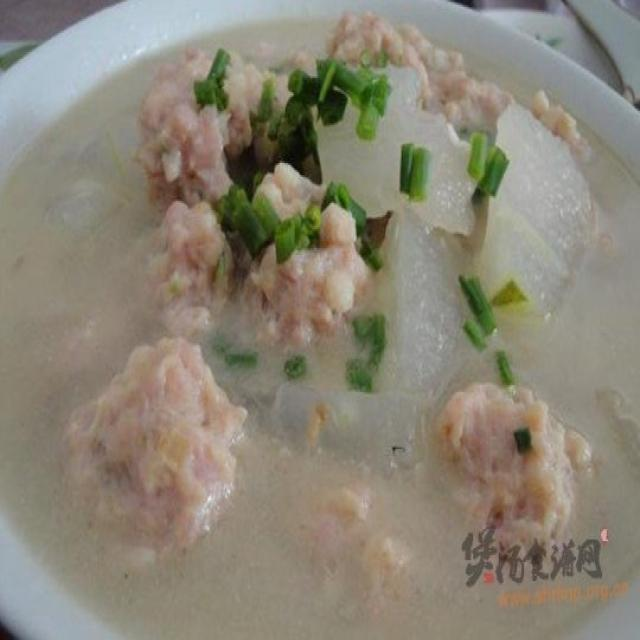汤锅炖物: (29, 26, 626, 602)
